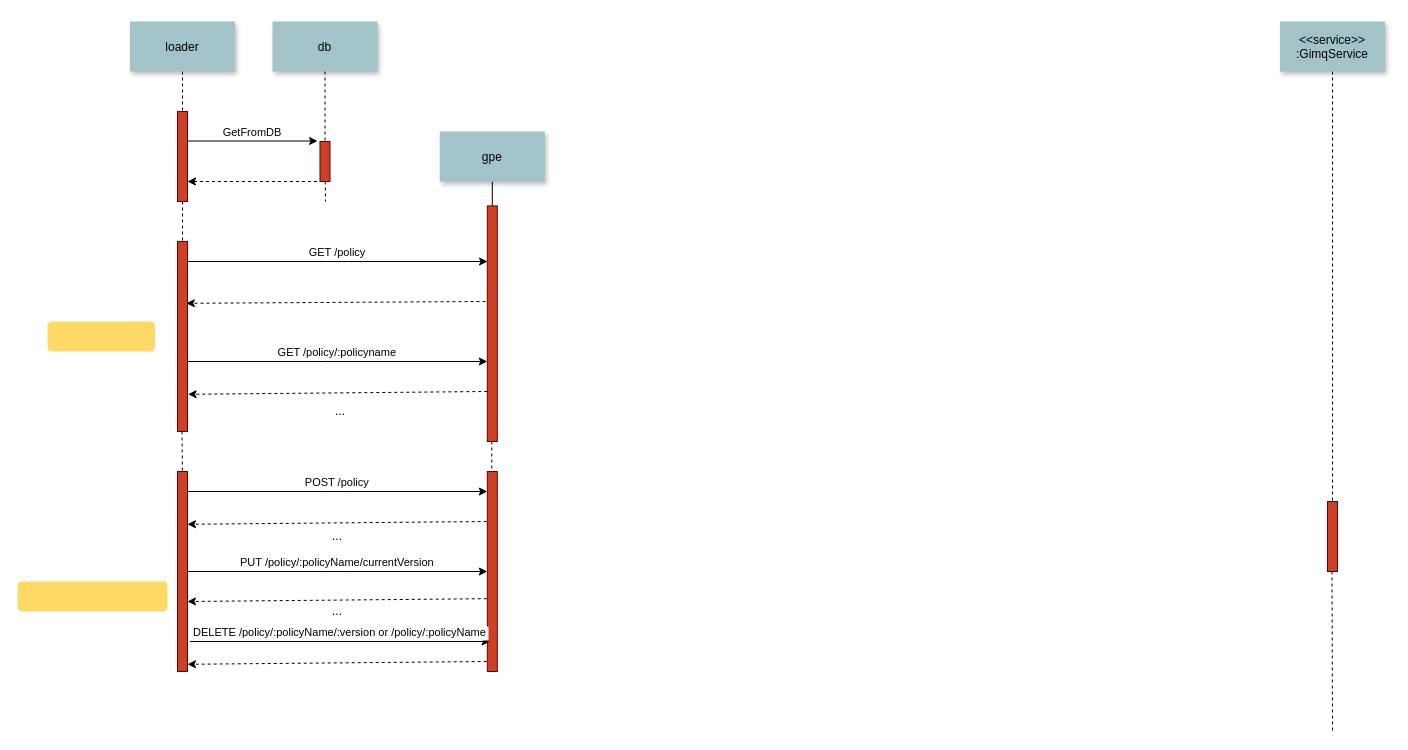
Image size: 1408x750. Some labels were removed from this diagram. The centre of each missing label's shape, as x and y in pixels:
FetchFromGPE: the point at 100,336
reconcile: the point at 92,596
